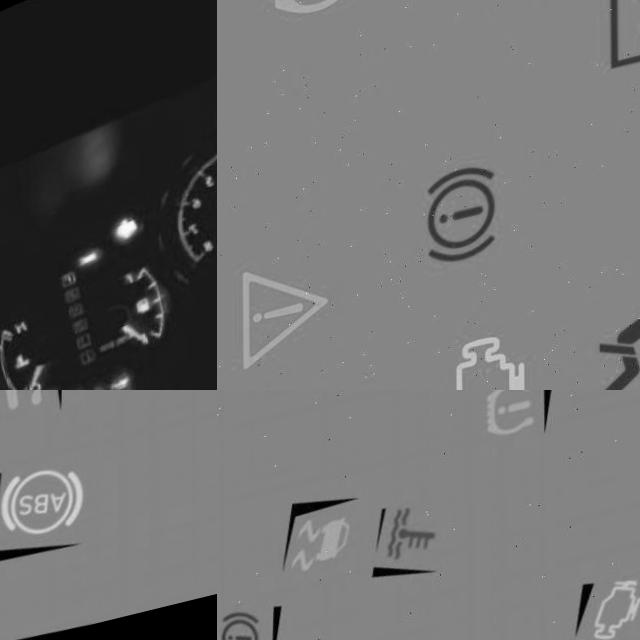Engine cooling system: (9, 351, 25, 370)
Low fuel level: (131, 303, 147, 322)
